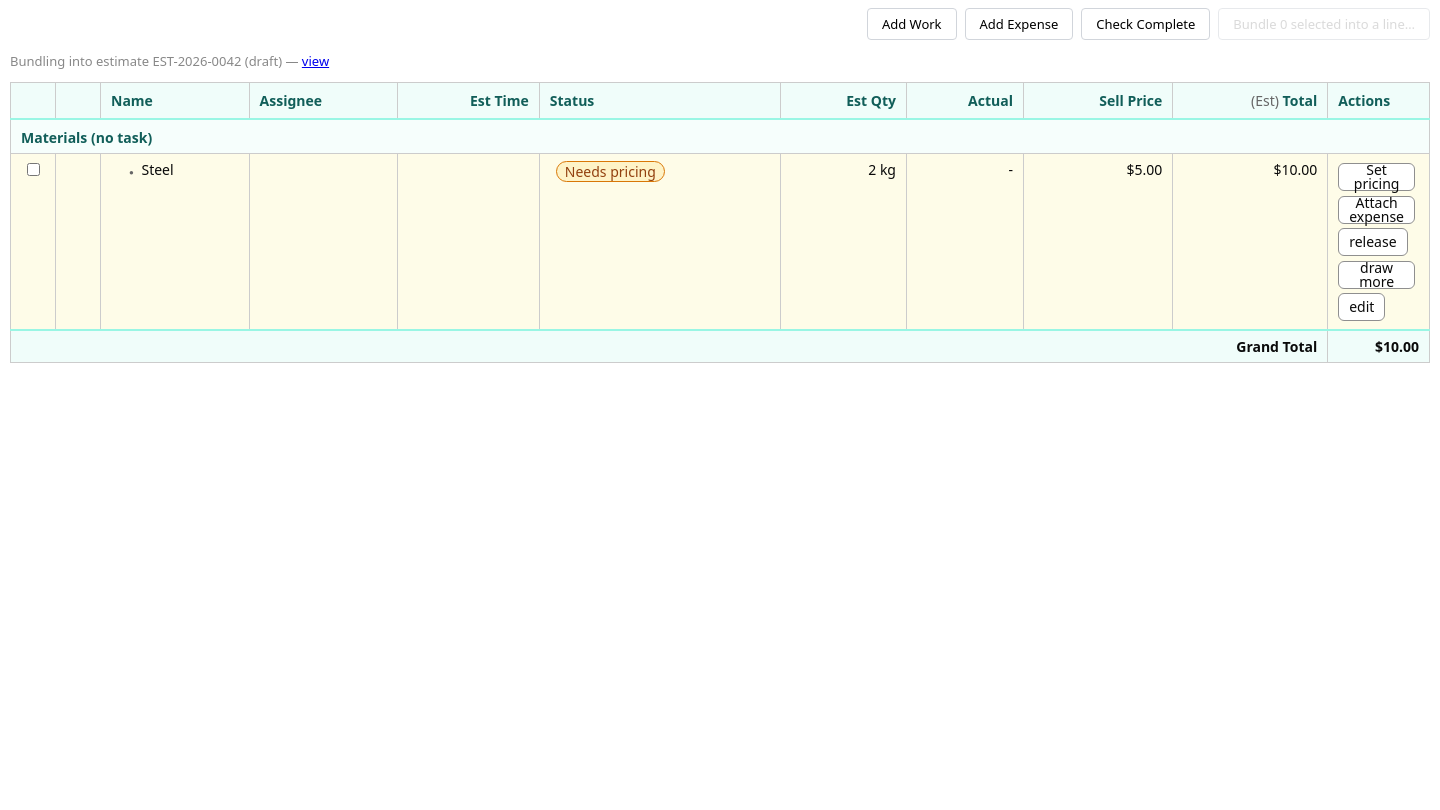
Test case: TasksPanel — estimate context (Task 2) › bundle CTA + BundleModal › clicking the CTA opens BundleModal with the selected atoms
Expected: the button "Bundle 0 selected into a line…" is shown, x1=1218 y1=8 x2=1430 y2=40
Click the checkbox named "Select Steel for bundling": (34, 170) x1=27 y1=163 x2=40 y2=176
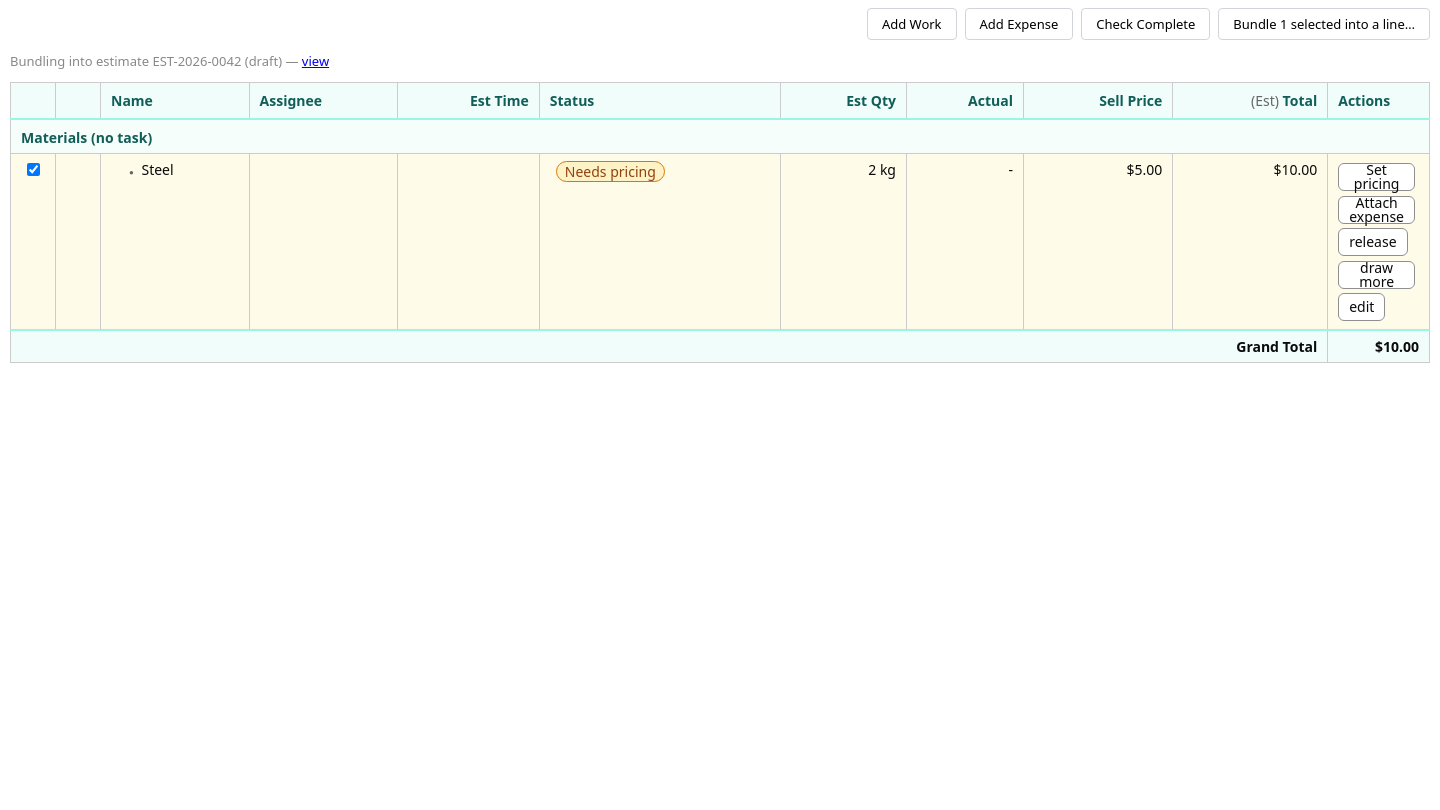
Click the button "Bundle 1 selected into a line…": (1324, 24) x1=1218 y1=8 x2=1430 y2=40
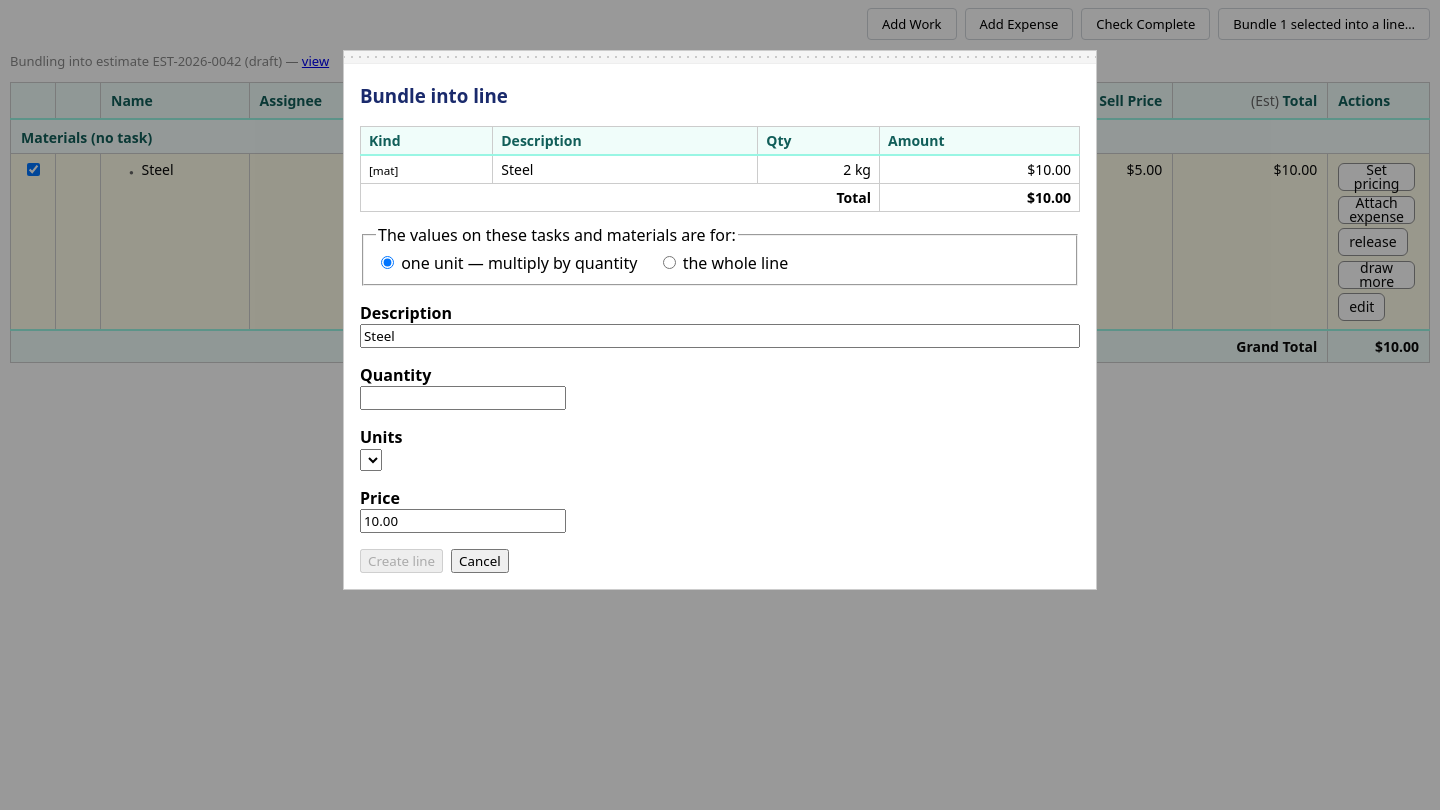
Now the heading "Bundle into line" is shown, box x1=360 y1=83 x2=508 y2=108
